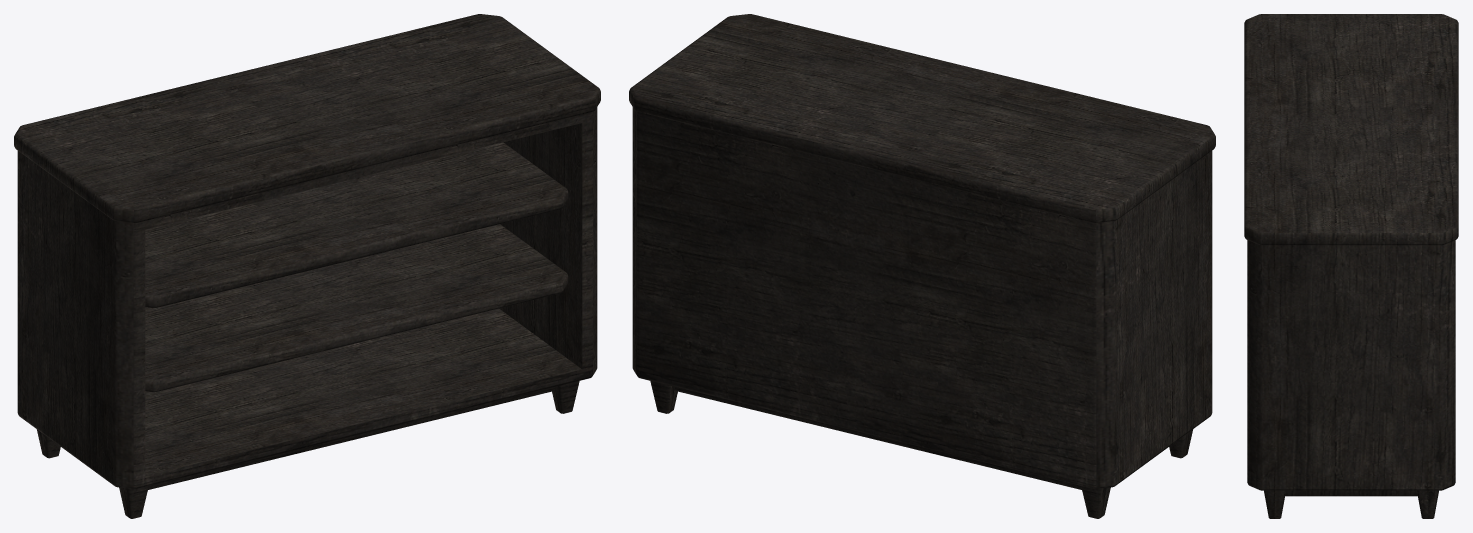
Rendered from wardrobe_4.obj.
3 renders of one model, left to right at view 1: azimuth 30°, elevation 25°; view 2: azimuth 150°, elevation 25°; view 3: azimuth 270°, elevation 25°, orthographic. The views are drawn at different scales.
Visible parts, largest first — view 1: wardrobe_4; view 2: wardrobe_4; view 3: wardrobe_4.
Boxes of the visible parts, bbox=[...] form: wardrobe_4: bbox=[14, 14, 600, 518]; wardrobe_4: bbox=[629, 14, 1215, 518]; wardrobe_4: bbox=[1244, 14, 1458, 518].
Bounding box in the file's own units: 1.7 × 1.07 × 0.7.
